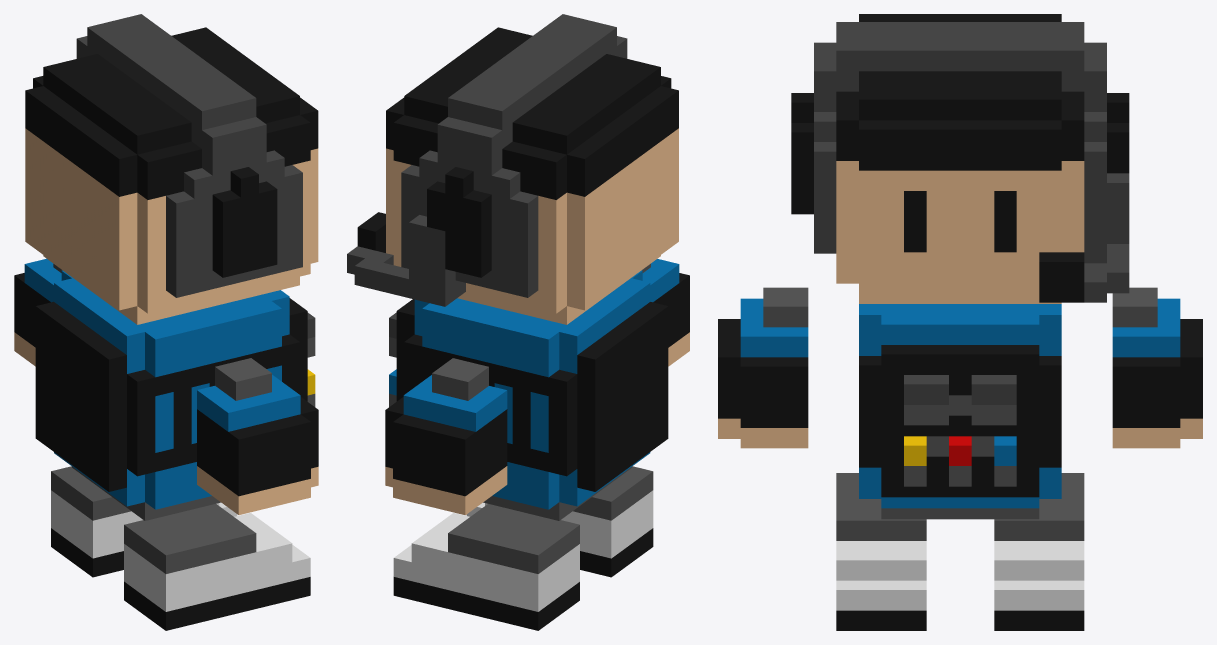
Rendered from player.fbx.
3 renders of one model, left to right at view 1: azimuth 30°, elevation 25°; view 2: azimuth 150°, elevation 25°; view 3: azimuth 270°, elevation 25°, orthographic. The views are drawn at different scales.
Visible parts, largest first — view 1: Player_Head, player_Body, player_Lefthand001, player_LeftHand, player_RightHand, player_Right; view 2: Player_Head, player_Body, player_RightHand, player_Right, player_Lefthand001, player_LeftHand; view 3: Player_Head, player_Body, player_LeftHand, player_Right, player_RightHand, player_Lefthand001.
Part boxes in pixels (<box>): Player_Head: <box>25,14,318,324</box>; player_Body: <box>35,270,315,520</box>; player_Lefthand001: <box>124,504,310,630</box>; player_LeftHand: <box>197,358,318,514</box>; player_RightHand: <box>51,466,237,577</box>; player_Right: <box>14,258,62,366</box>; Player_Head: <box>347,14,678,324</box>; player_Body: <box>389,270,668,520</box>; player_RightHand: <box>393,504,579,630</box>; player_Right: <box>385,358,507,515</box>; player_Lefthand001: <box>466,466,653,577</box>; player_LeftHand: <box>642,259,689,366</box>; Player_Head: <box>791,14,1129,303</box>; player_Body: <box>859,304,1061,519</box>; player_LeftHand: <box>718,287,808,448</box>; player_Right: <box>1112,287,1202,448</box>; player_RightHand: <box>994,473,1084,630</box>; player_Lefthand001: <box>836,473,926,630</box>.
Size of the model in its own units: 1.2 by 2.7 by 2.15.
Materials: 1 (1 with a texture image).
